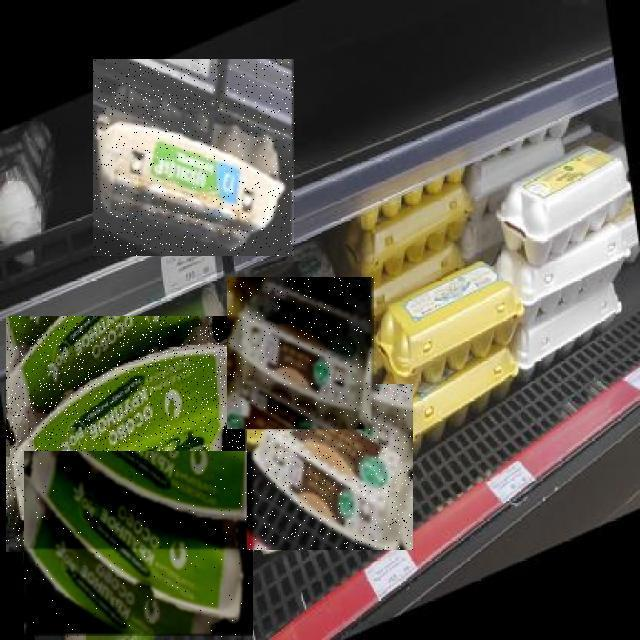Eggs: (6, 316, 245, 552), (24, 452, 253, 638), (94, 59, 296, 256), (247, 384, 413, 550), (228, 277, 376, 429)
